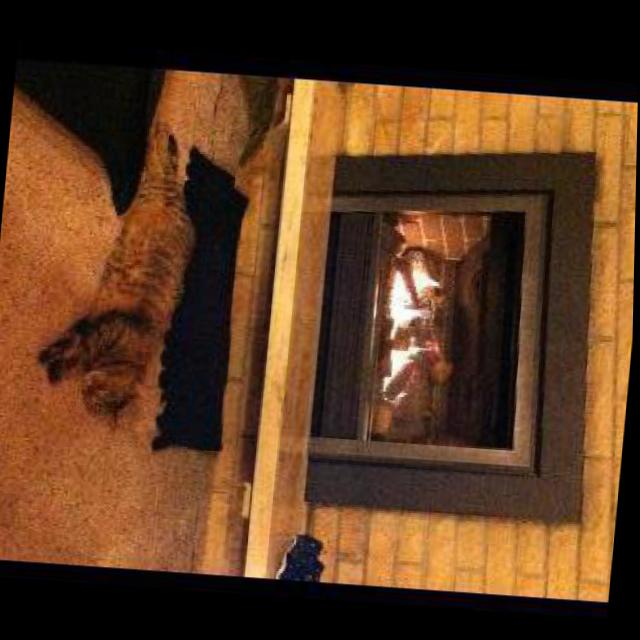Fire: (368, 230, 506, 422)
